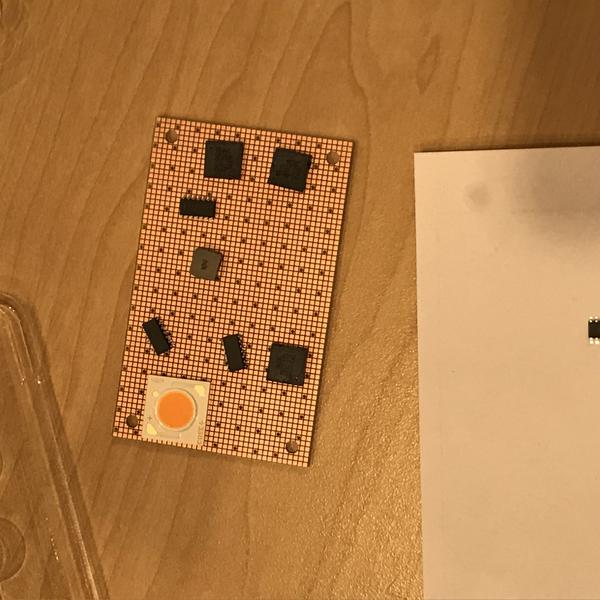board: (109, 111, 356, 472)
